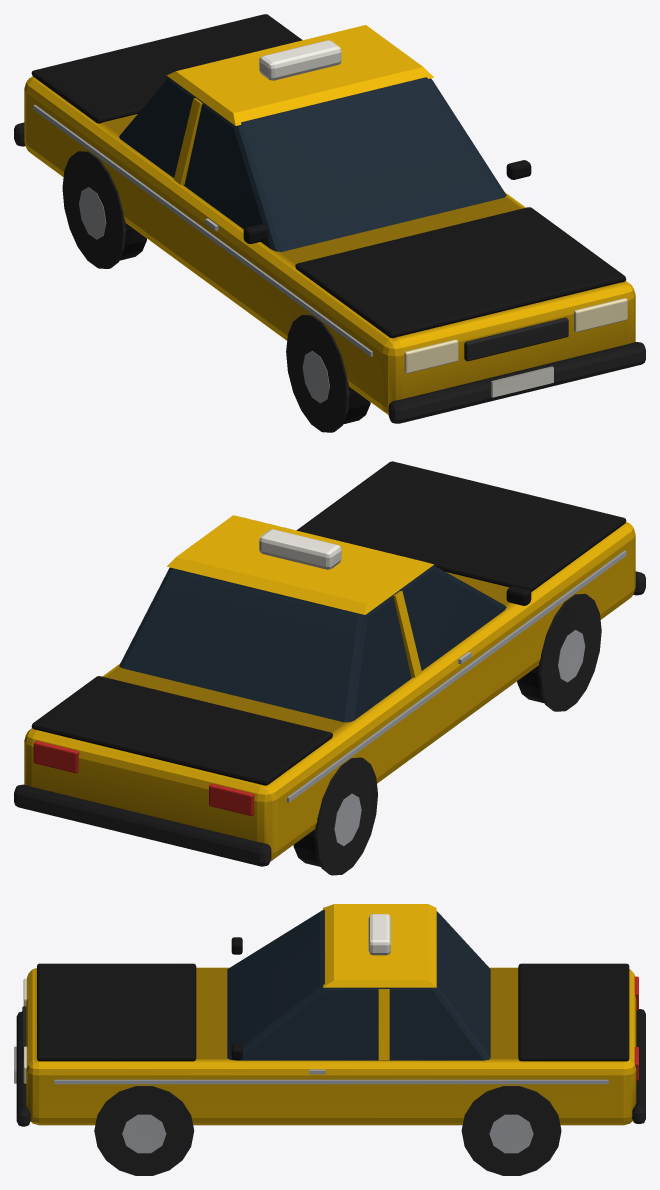
Rendered from sedan.glb.
3 renders of one model, top to bottom at view 1: azimuth 30°, elevation 25°; view 2: azimuth 150°, elevation 25°; view 3: azimuth 270°, elevation 25°, orthographic. The views are drawn at different scales.
Visible parts, largest first — view 1: Sedan; view 2: Sedan; view 3: Sedan.
Part boxes in pixels (<box>): Sedan: <box>14,14,645,432</box>; Sedan: <box>14,461,645,875</box>; Sedan: <box>14,904,645,1175</box>.
Size of the model in its own units: 1.94 by 1.57 by 4.56.
